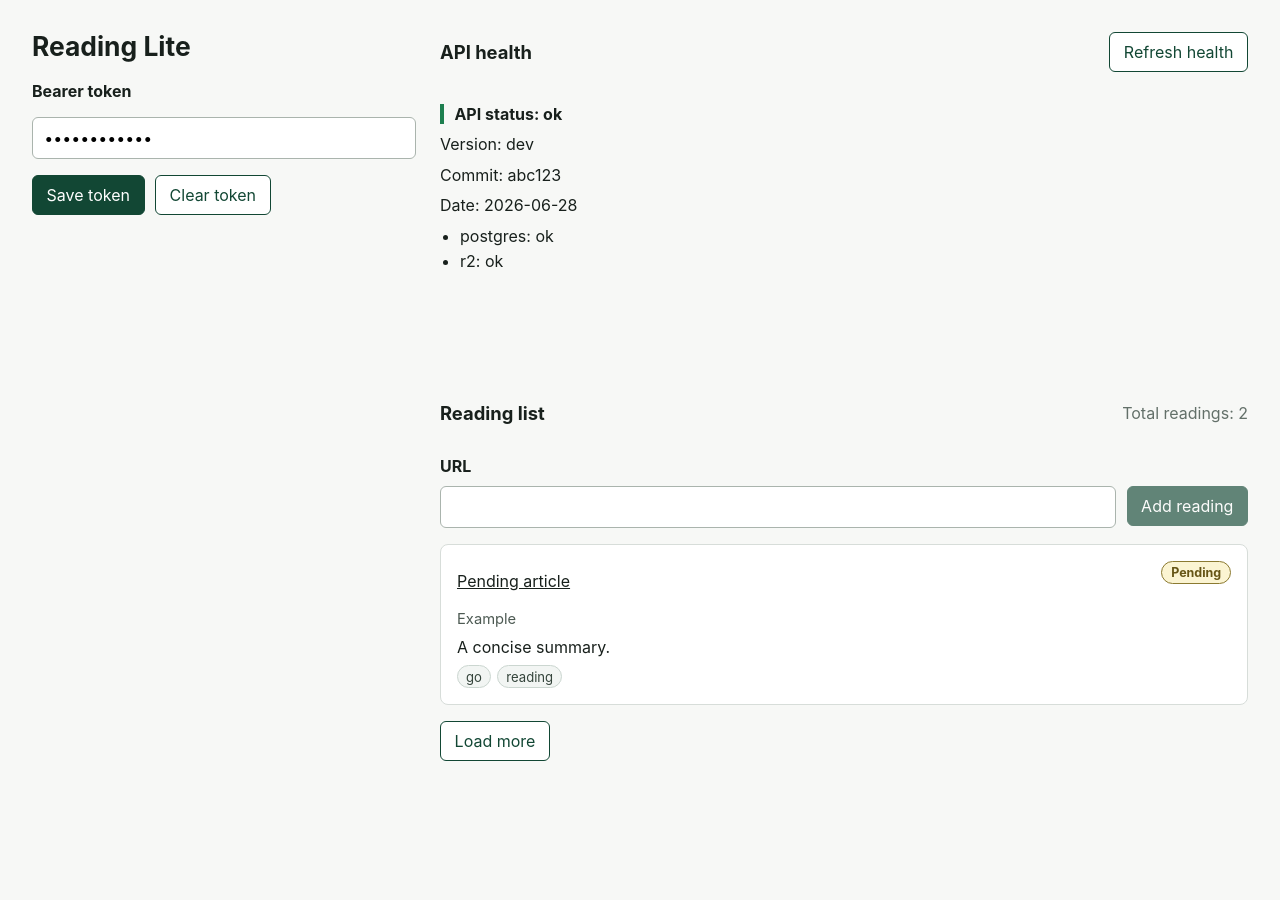
Test case: App › ignores load-more clicks while a background poll refresh is in flight
The width and height of the screenshot is (1280, 900).
Check: the button "Pending article" is shown, box [457,561,570,601]
Click the button "Load more". click: click(495, 741)
box: [440,721,550,761]
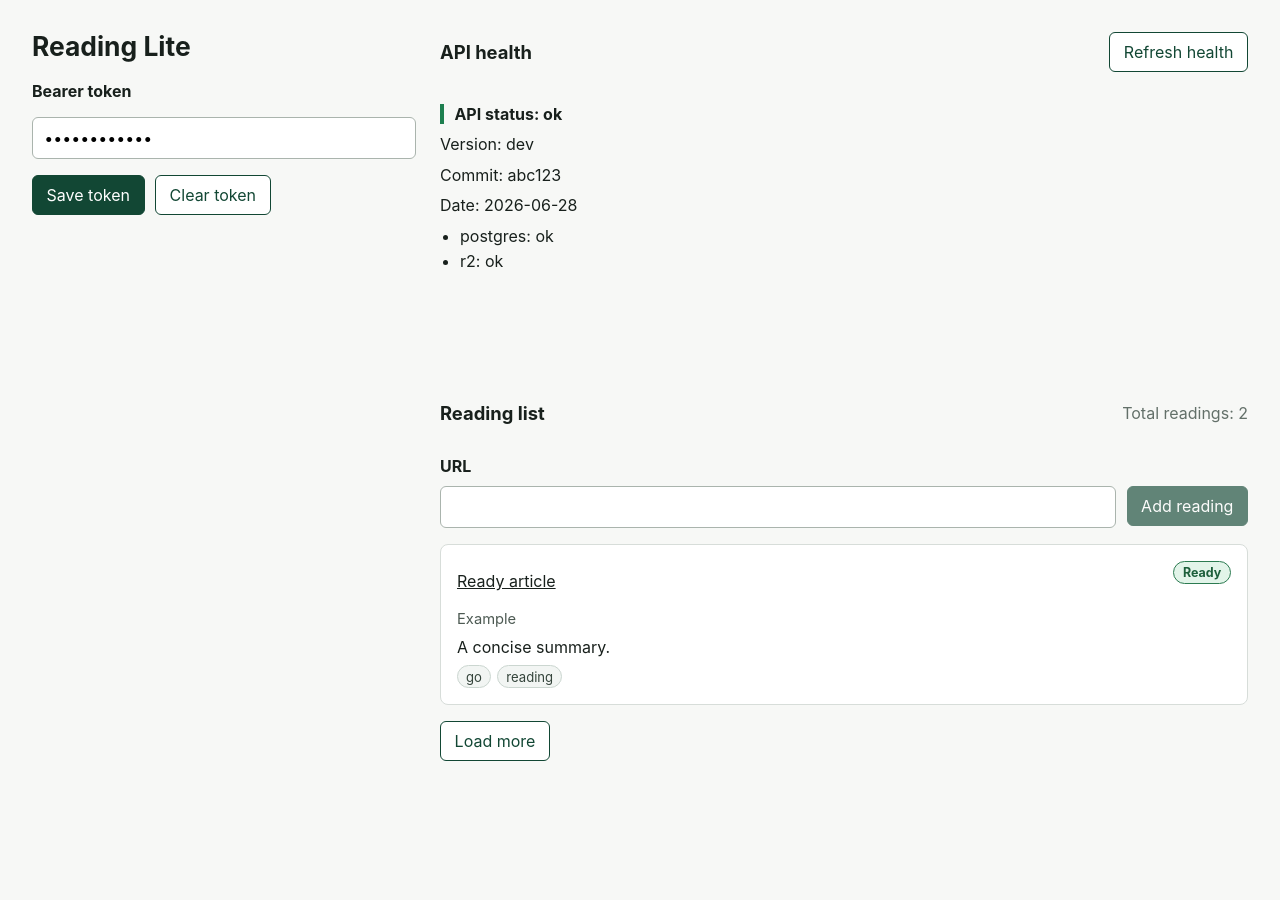
Check: the button "Ready article" is shown, box [457,561,556,601]
